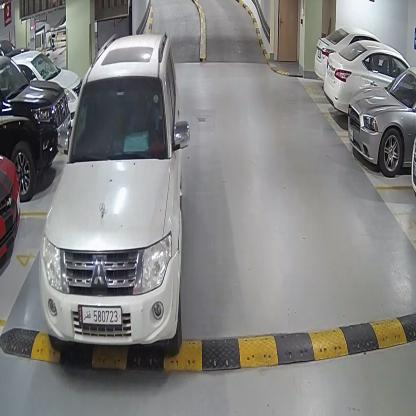np: (78, 304, 124, 326)
